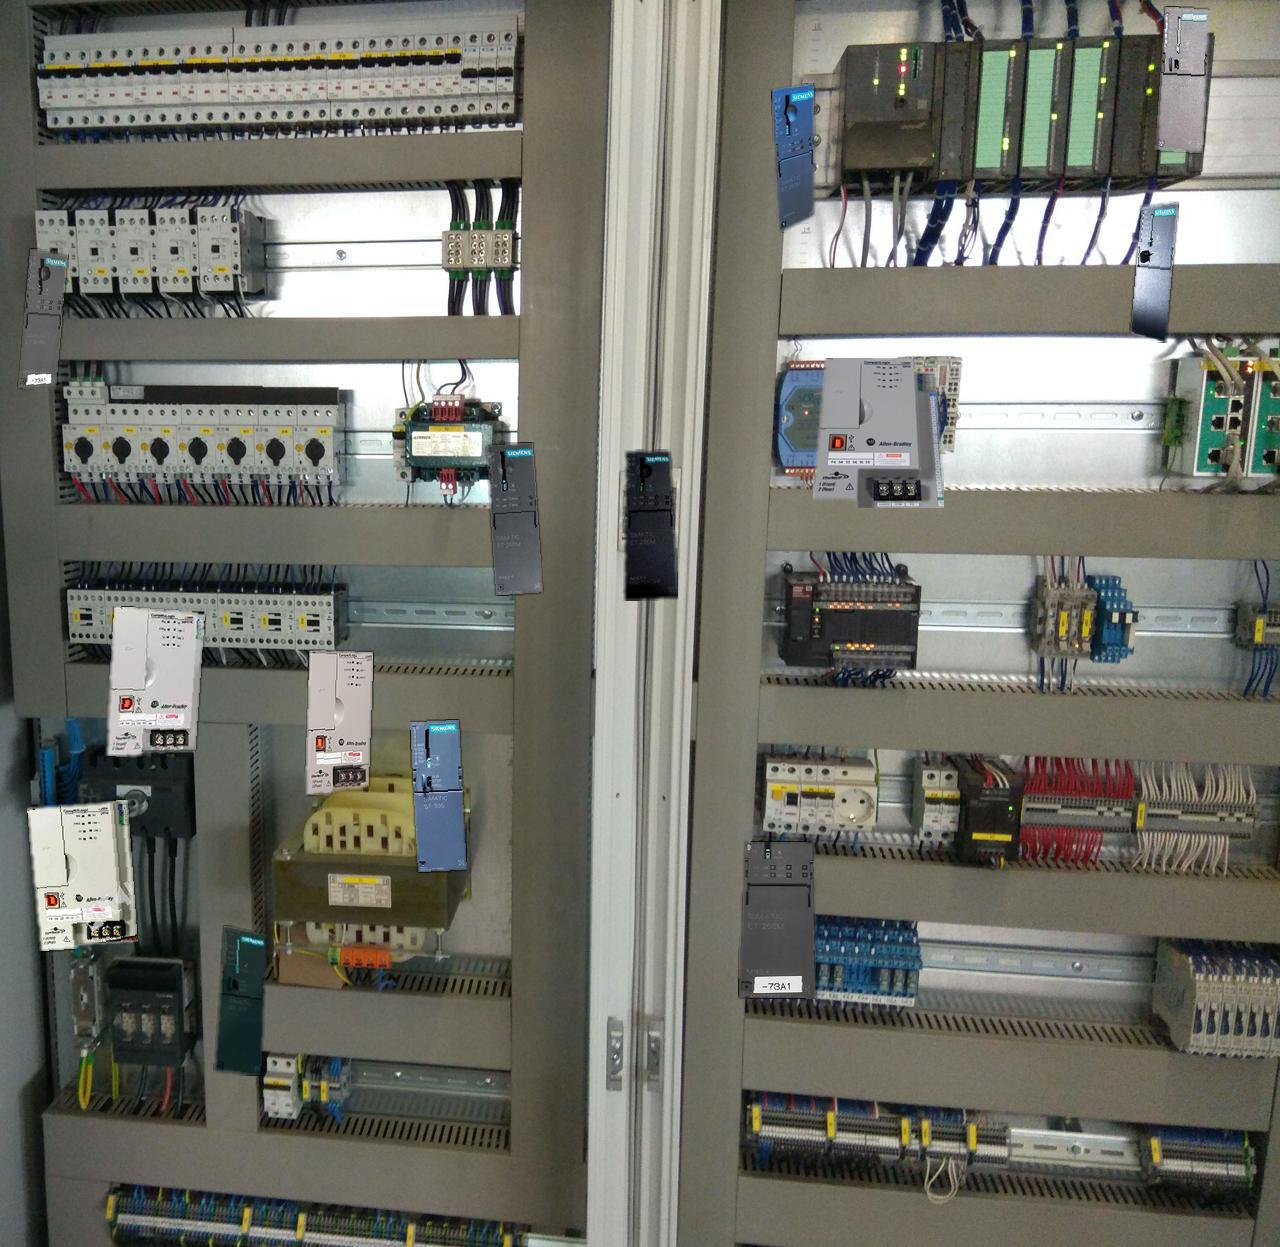AllenBradley: (813, 358, 943, 507), (27, 800, 137, 950), (107, 606, 203, 756), (306, 652, 373, 794)
Siemens: (410, 720, 466, 871), (215, 926, 266, 1074), (1157, 7, 1208, 151), (1131, 203, 1177, 341)
